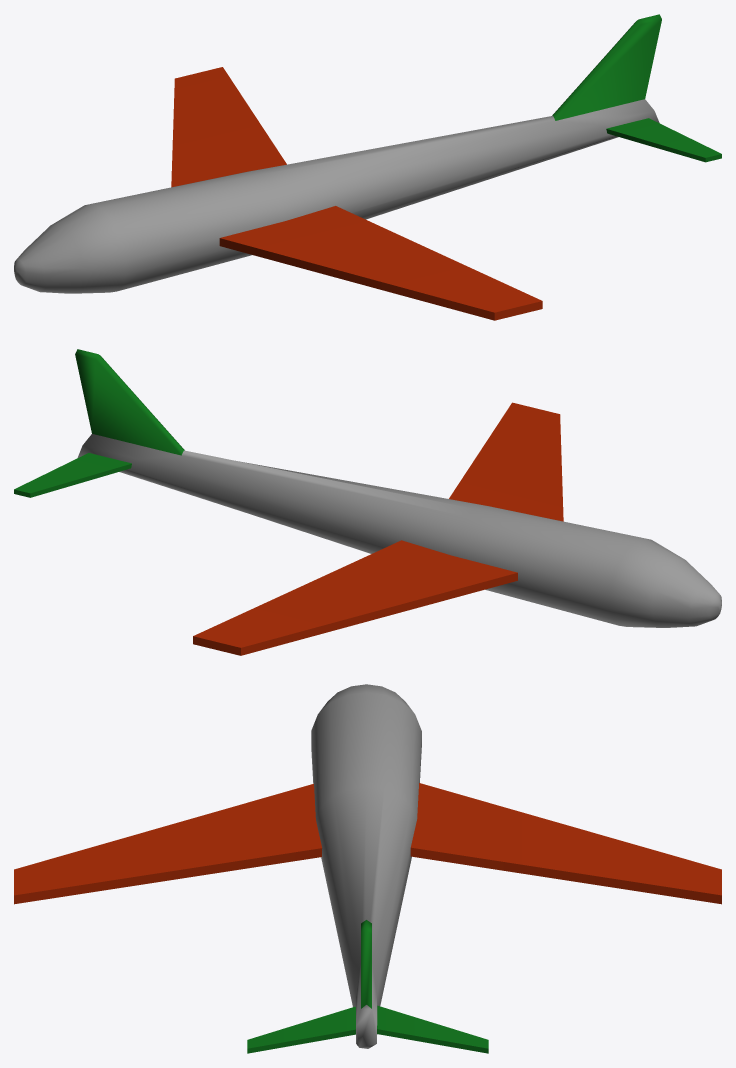
Rendered from aviao.FBX.
3 renders of one model, top to bottom at view 1: azimuth 30°, elevation 25°; view 2: azimuth 150°, elevation 25°; view 3: azimuth 270°, elevation 25°, orthographic. The views are drawn at different scales.
Parts seen in each view (by area): view 1: Aviao; view 2: Aviao; view 3: Aviao.
Part boxes in pixels (x1,y1,x2,y2): Aviao: (14,14,721,320); Aviao: (14,349,721,655); Aviao: (14,684,721,1053).
Size of the model in its own units: 99.88 by 20.2 by 84.83.
